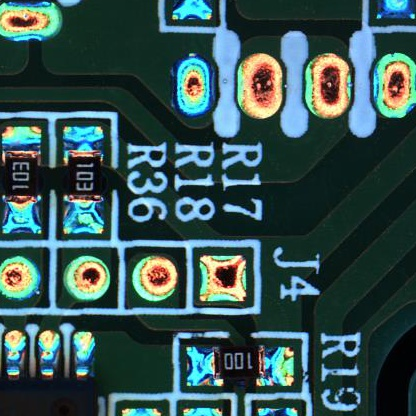spot: (296, 45, 359, 126), (232, 46, 290, 123), (167, 49, 220, 122), (370, 49, 416, 123), (192, 253, 248, 310), (61, 250, 116, 306), (127, 251, 184, 304)
